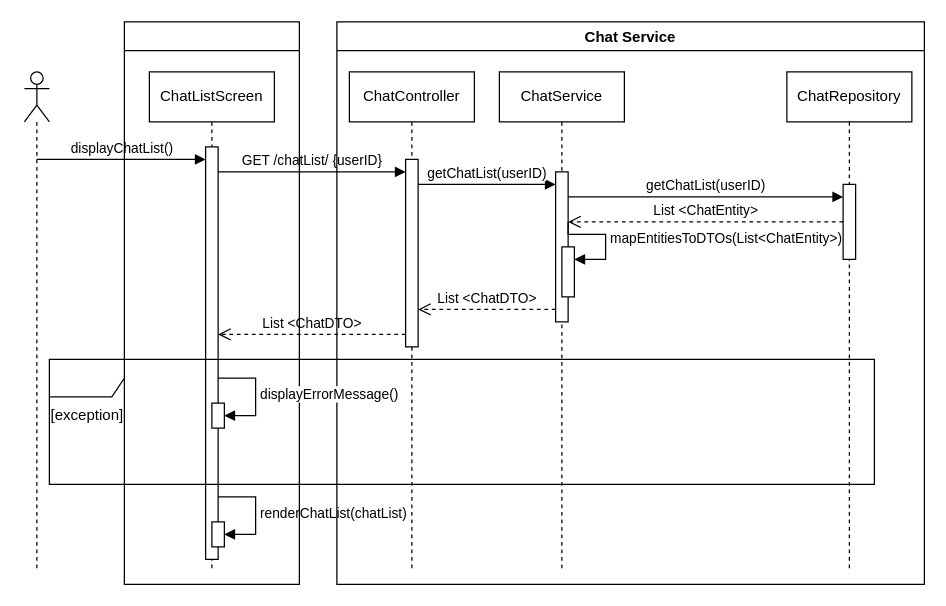
This 946x606 diagram has some shape labels left out. The box of each missing label's shape, as (x1, y1, x2, y2) in pixels:
A1 User: (23, 71, 49, 572)
break: (48, 358, 874, 484)
MobileApp: (123, 21, 299, 584)
